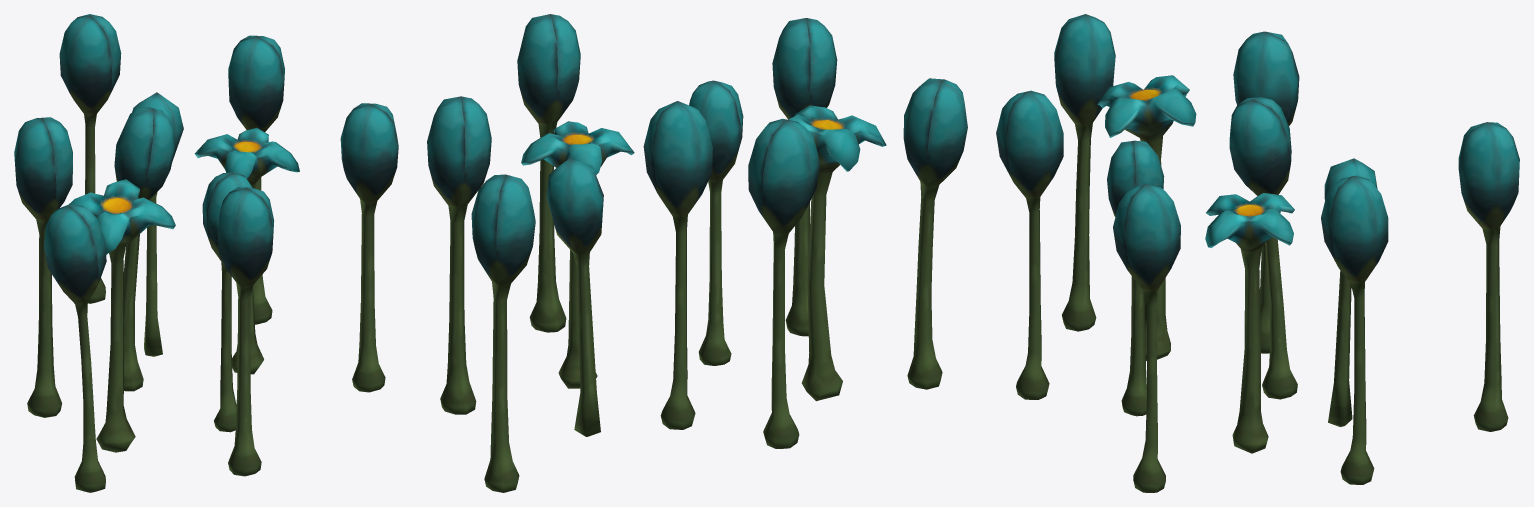
File: Glowing_Flower_Group_01.fbx
3 views of the same model, side by side, from view 1: azimuth 30°, elevation 25°; view 2: azimuth 150°, elevation 25°; view 3: azimuth 270°, elevation 25° (orthographic). The views are drawn at different scales.
Visible parts, largest first — view 1: Glowing_Flower_Group_01_LOD0; view 2: Glowing_Flower_Group_01_LOD0; view 3: Glowing_Flower_Group_01_LOD0.
Boxes of the visible parts, box(x1,y1,x2,y2) form: Glowing_Flower_Group_01_LOD0: box(14, 14, 398, 492); Glowing_Flower_Group_01_LOD0: box(427, 14, 967, 492); Glowing_Flower_Group_01_LOD0: box(996, 14, 1519, 492).
Size of what is drawn, in the model's own units: 0.379 by 0.2905 by 0.43.
